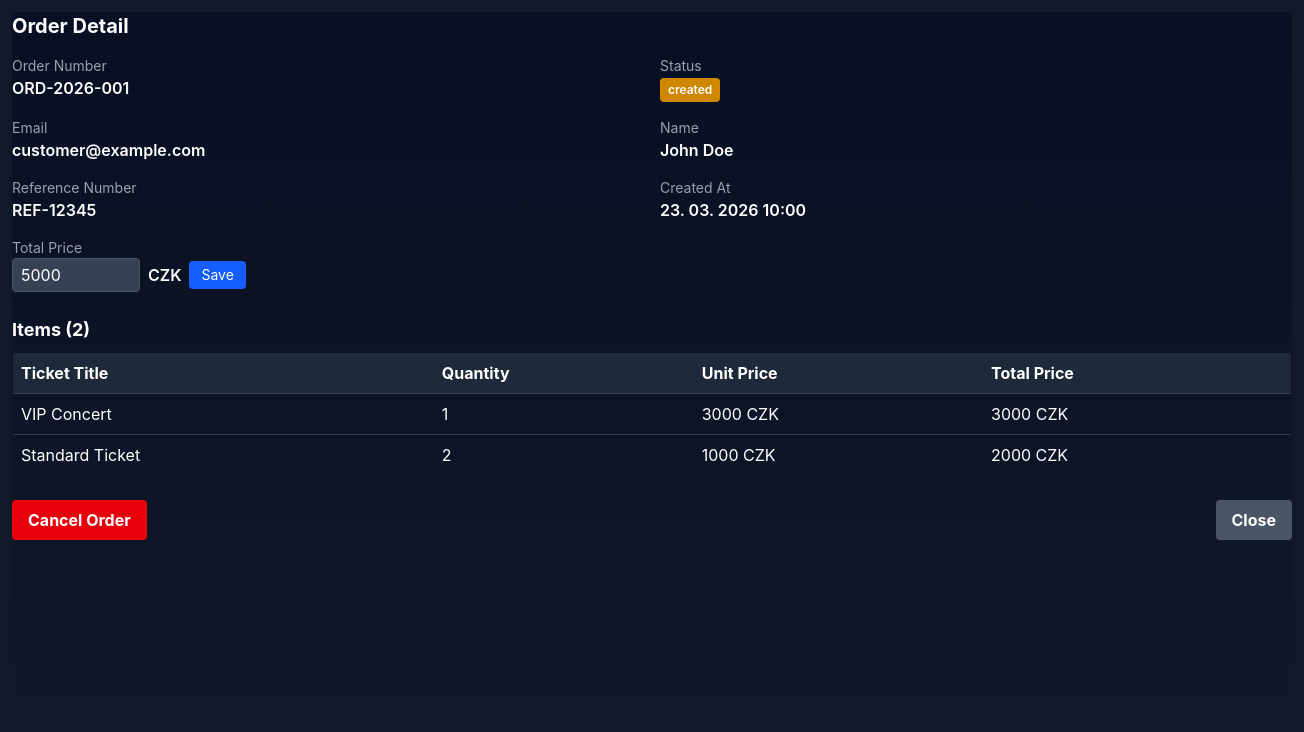
OrderDetail › shows confirmation dialog when Cancel Order button clicked
The width and height of the screenshot is (1304, 732).
Step 1. Click the button "Cancel Order" → click(79, 520), box [12,500,147,540]
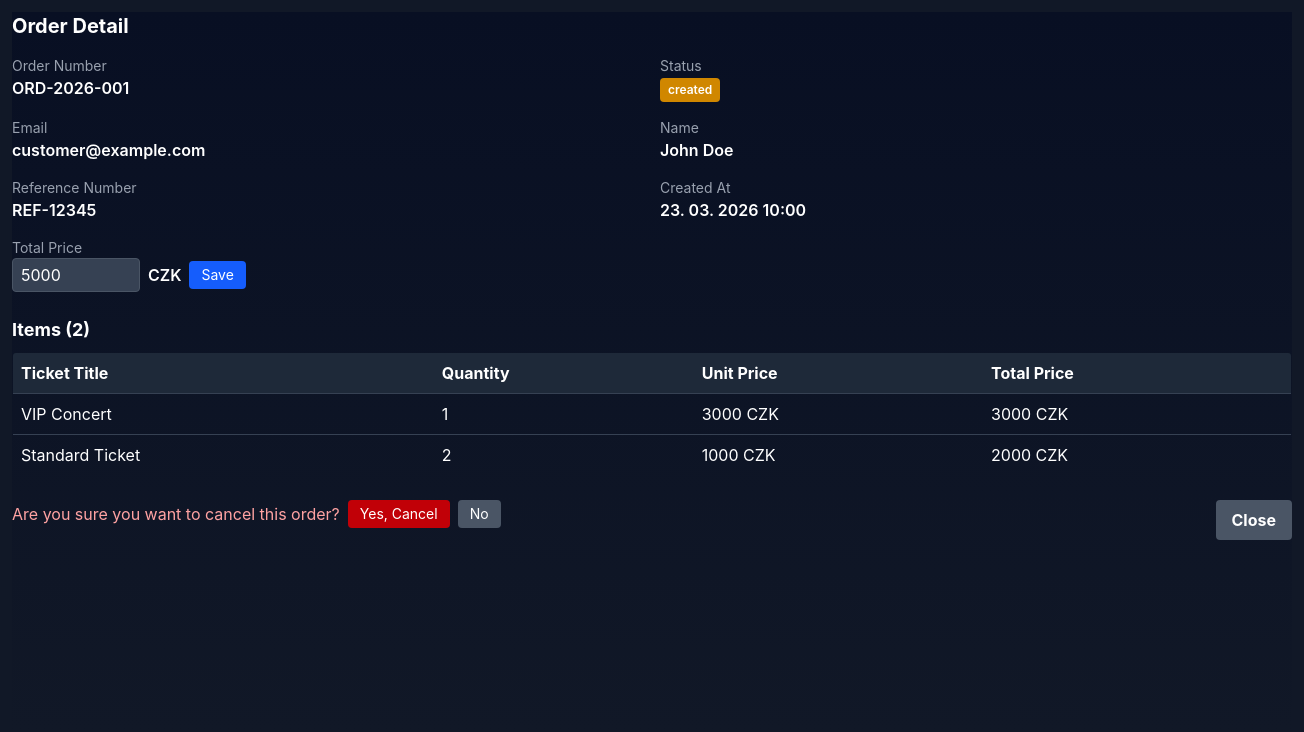
Expected: the text "Are you sure you want to cancel this order?" is shown, [12,502,340,526]
Expected: the button "Yes, Cancel" is shown, [348,500,450,528]
Expected: the button "No" is shown, [458,500,501,528]
